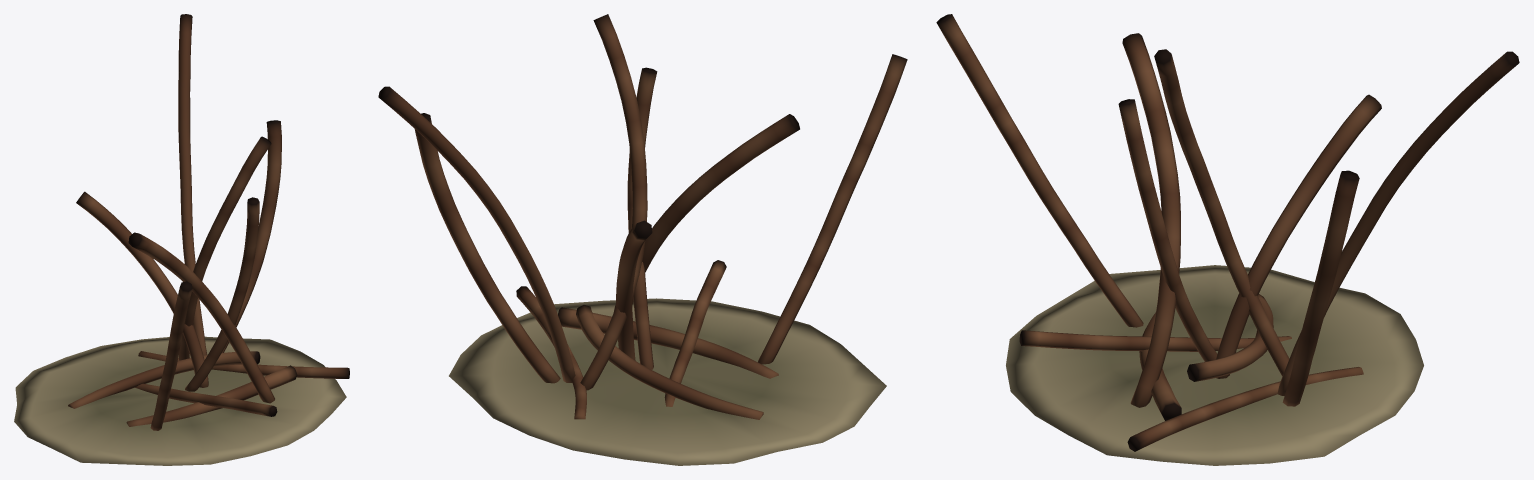
File: Sabellidites.fbx
3 views of the same model, side by side, from view 1: azimuth 30°, elevation 25°; view 2: azimuth 150°, elevation 25°; view 3: azimuth 270°, elevation 25° (orthographic). The views are drawn at different scales.
Visible parts, largest first — view 1: Sabellidites; view 2: Sabellidites; view 3: Sabellidites.
Part boxes in pixels (x1,y1,x2,y2): Sabellidites: (14,14,349,465); Sabellidites: (378,14,907,465); Sabellidites: (936,14,1519,465).
Bounding box in the file's own units: 1.32 × 1.18 × 1.59.
